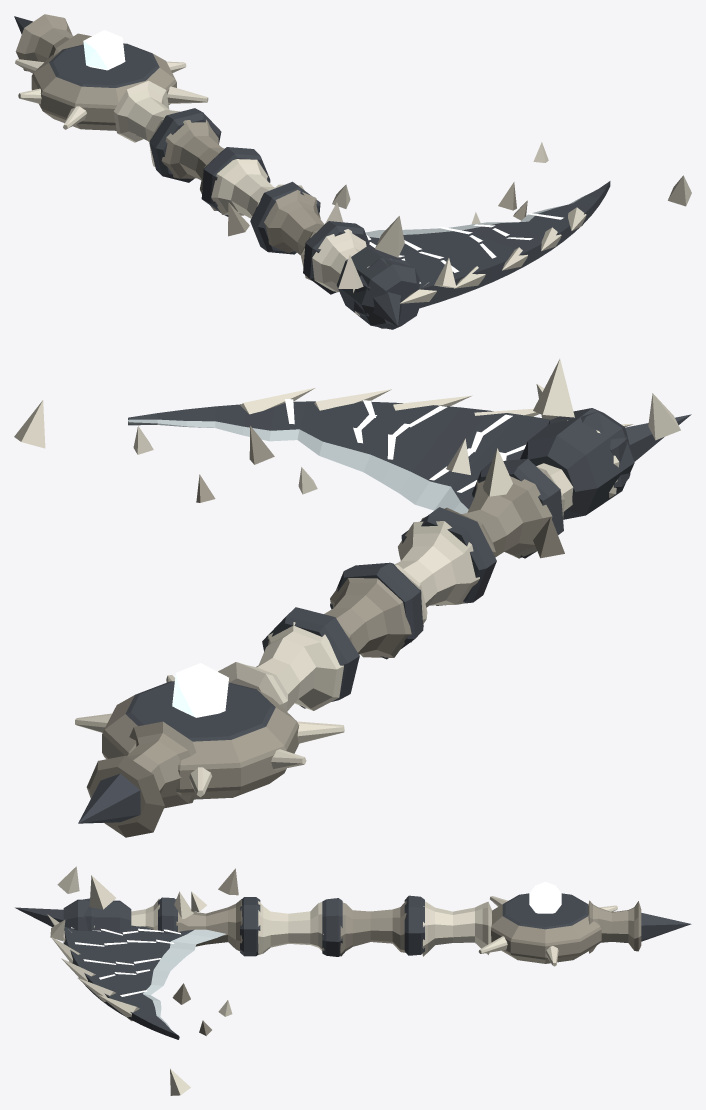
File: scythe.glb
3 renders of one model, top to bottom at view 1: azimuth 30°, elevation 25°; view 2: azimuth 150°, elevation 25°; view 3: azimuth 270°, elevation 25°, orthographic. The views are drawn at different scales.
Parts seen in each view (by area): view 1: Scythe_Shaft, Scythe_Blade, Scythe_Hub, Scythe_Fragments, Scythe_HubCore, Scythe_Cracks; view 2: Scythe_Shaft, Scythe_Blade, Scythe_Hub, Scythe_Fragments, Scythe_HubCore, Scythe_Cracks; view 3: Scythe_Shaft, Scythe_Blade, Scythe_Hub, Scythe_Fragments, Scythe_HubCore, Scythe_Cracks.
Boxes of the visible parts, x1=… form: Scythe_Shaft: x1=14, y1=14, x2=410, y2=328; Scythe_Blade: x1=336, y1=181, x2=610, y2=329; Scythe_Hub: x1=15, y1=43, x2=208, y2=130; Scythe_Fragments: x1=228, y1=142, x2=691, y2=288; Scythe_HubCore: x1=83, y1=30, x2=125, y2=70; Scythe_Cracks: x1=366, y1=213, x2=563, y2=283; Scythe_Shaft: x1=78, y1=412, x2=630, y2=837; Scythe_Blade: x1=128, y1=387, x2=691, y2=519; Scythe_Hub: x1=75, y1=675, x2=344, y2=799; Scythe_Fragments: x1=14, y1=359, x2=680, y2=558; Scythe_HubCore: x1=172, y1=663, x2=228, y2=717; Scythe_Cracks: x1=285, y1=399, x2=525, y2=492; Scythe_Shaft: x1=79, y1=895, x2=691, y2=956; Scythe_Blade: x1=15, y1=899, x2=225, y2=1039; Scythe_Hub: x1=478, y1=893, x2=617, y2=966; Scythe_Fragments: x1=50, y1=866, x2=238, y2=1095; Scythe_HubCore: x1=529, y1=881, x2=561, y2=913; Scythe_Cracks: x1=71, y1=927, x2=180, y2=996.
Bounding box in the file's own units: 7.37 × 1.73 × 12.03.
